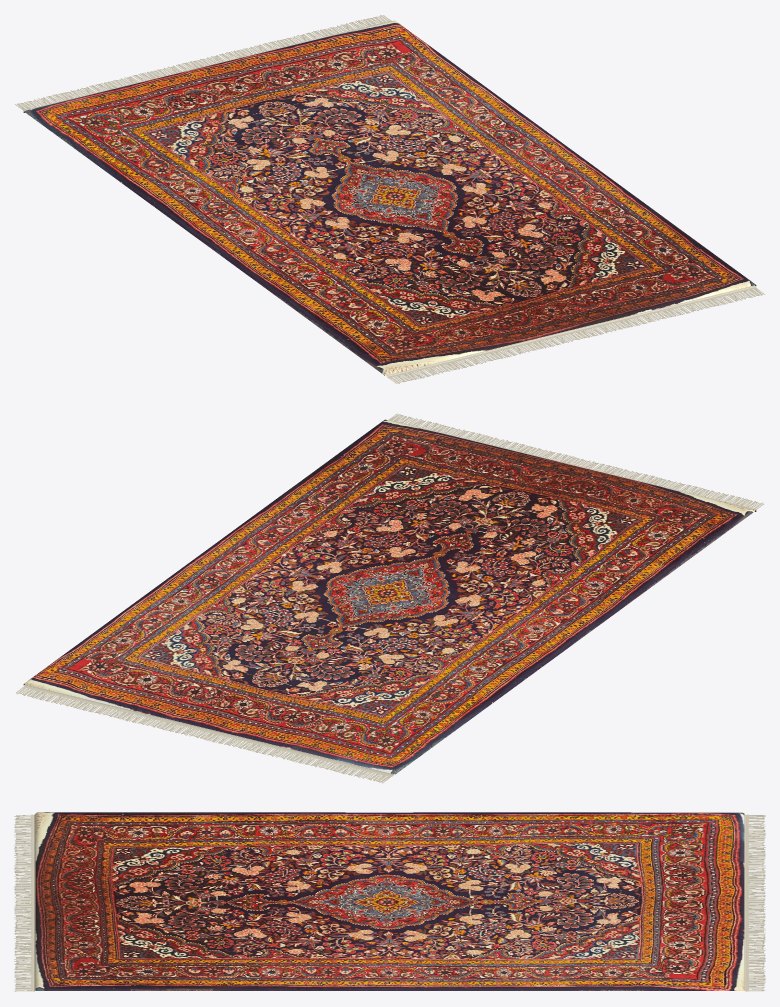
File: afshar-2015-070-premium.glb
The picture shows the model from 3 angles, top to bottom: view 1: azimuth 30°, elevation 25°; view 2: azimuth 150°, elevation 25°; view 3: azimuth 270°, elevation 25°; orthographic projection.
Visible parts, largest first — view 1: rug; view 2: rug; view 3: rug.
Part boxes in pixels (x1=…): rug: x1=15, y1=15, x2=764, y2=383; rug: x1=16, y1=413, x2=763, y2=783; rug: x1=14, y1=812, x2=765, y2=991.
Bounding box in the file's own units: 1.1 × 0.0122 × 1.96.
Materials: 9 (8 with a texture image).
